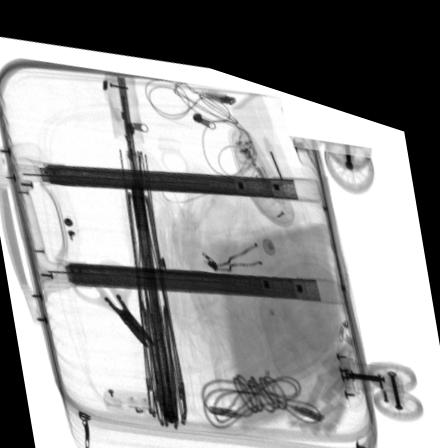Scissors: (68, 252, 153, 339)
